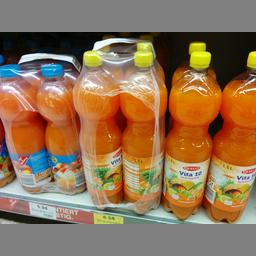juice: (160, 46, 222, 220), (201, 49, 255, 222), (118, 49, 168, 214), (72, 49, 123, 209), (0, 62, 51, 192), (34, 62, 84, 193)
